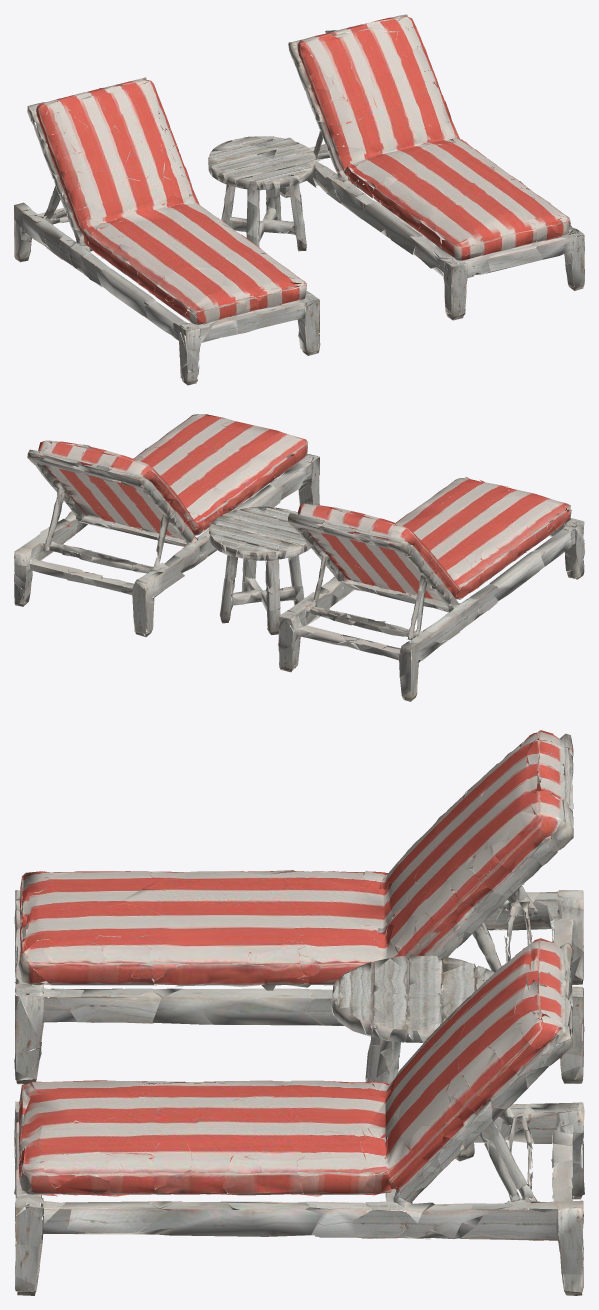
File: lounge-set.glb
3 views of the same model, one above another, from view 1: azimuth 30°, elevation 25°; view 2: azimuth 150°, elevation 25°; view 3: azimuth 270°, elevation 25° (orthographic). The views are drawn at different scales.
Parts seen in each view (by area): view 1: Mesh_0; view 2: Mesh_0; view 3: Mesh_0.
Part boxes in pixels (left/top/right/bottom): Mesh_0: left=14, top=14, right=584, bottom=385; Mesh_0: left=14, top=414, right=584, bottom=701; Mesh_0: left=14, top=730, right=584, bottom=1295.
Bounding box in the file's own units: 1.91 × 0.752 × 1.44.
1 material, 1 textured.
